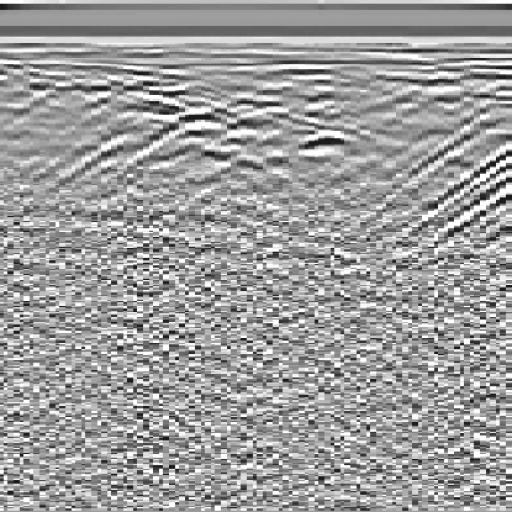metalic: (123, 61, 295, 245)
